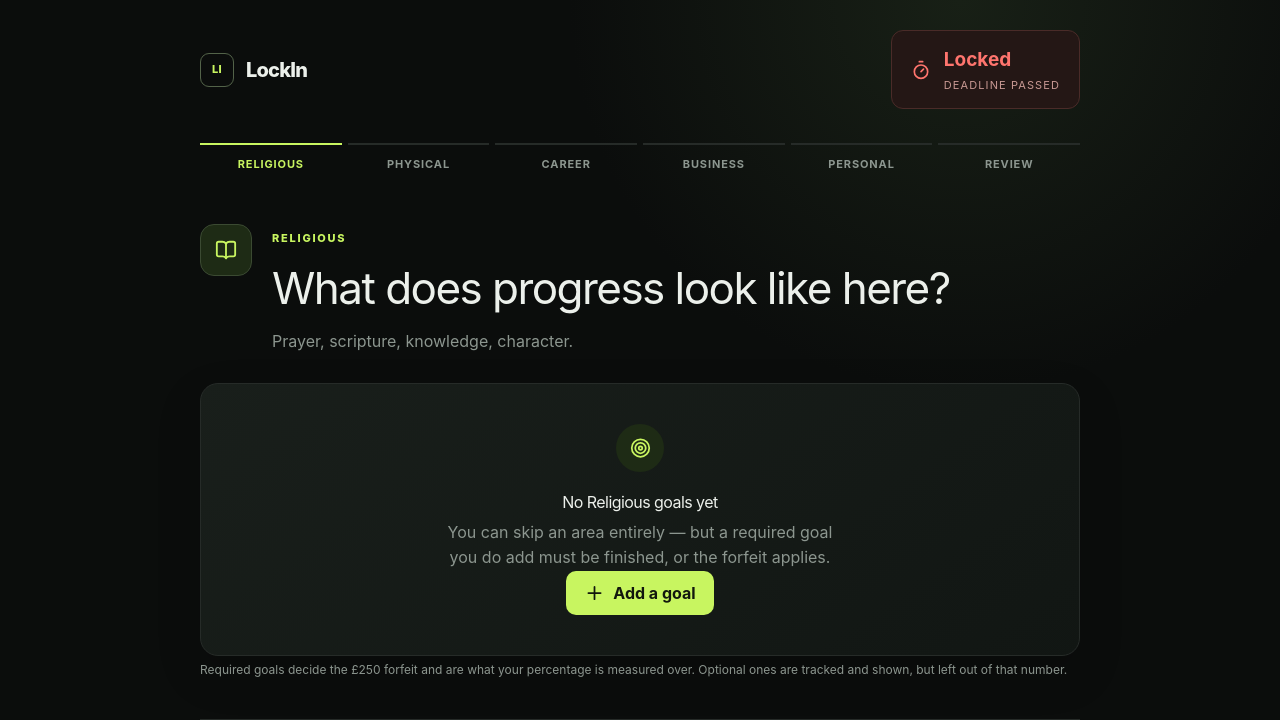
Test: goal wizard › refuses to commit with nothing set
Click the button "Review" at (1009, 163), box [938,143,1080,184]
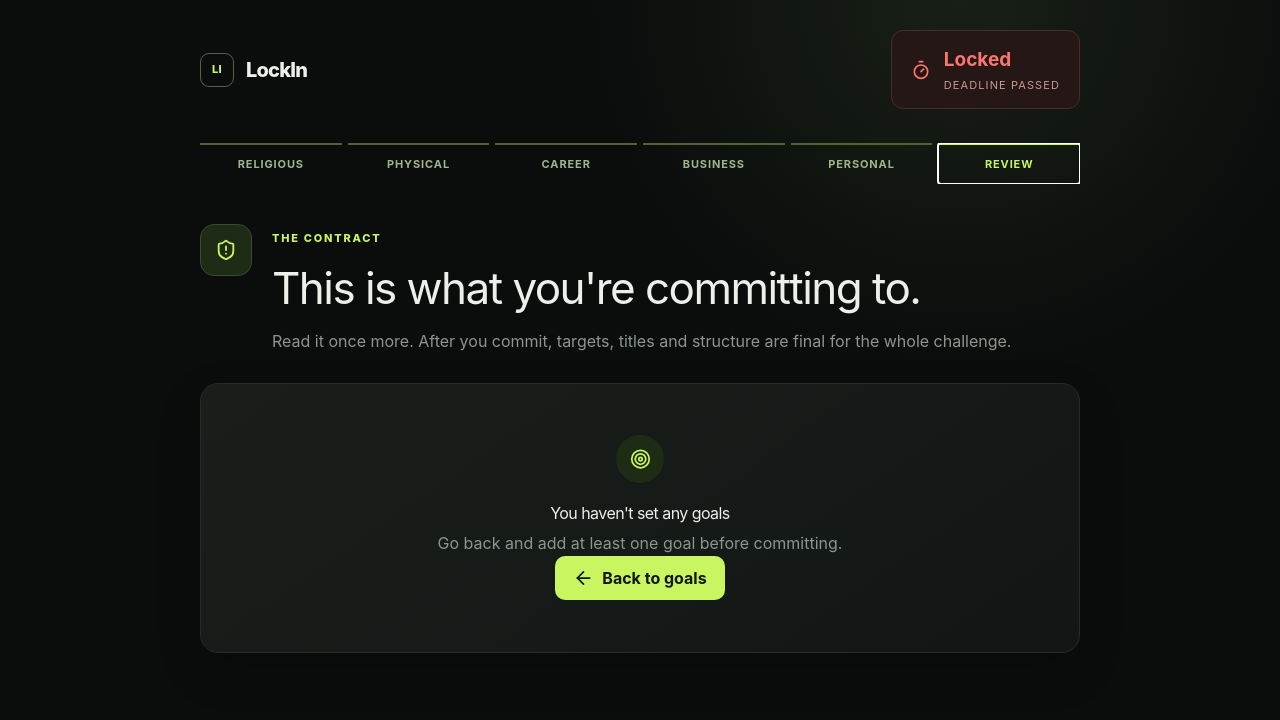
Now the heading "You haven't set any goals" is shown, box [550,501,730,525]
